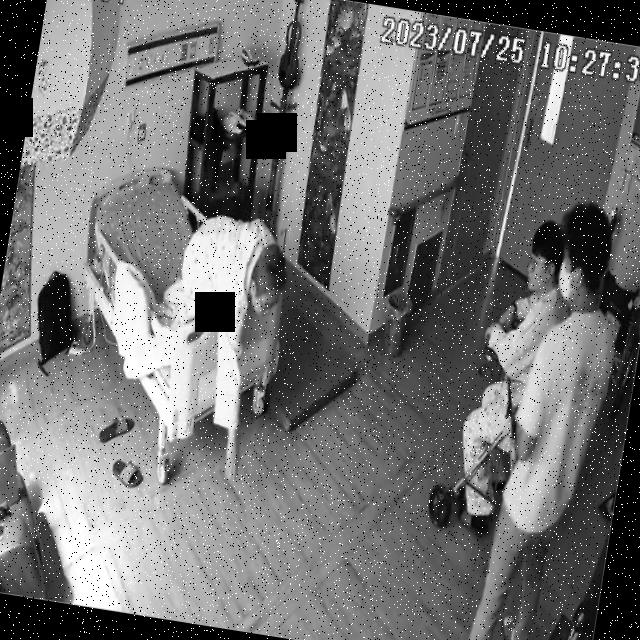danger: (150, 204, 296, 486)
patient: (150, 204, 296, 486)
